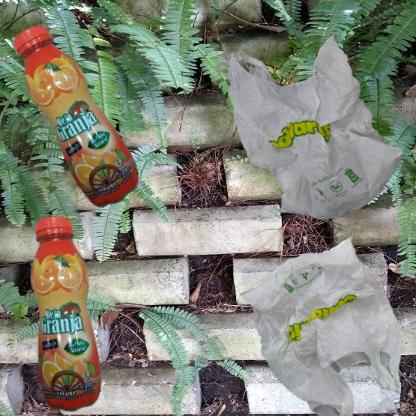bolsa: (213, 10, 416, 262), (213, 213, 416, 416)
botella: (10, 10, 164, 252), (10, 213, 132, 416)
